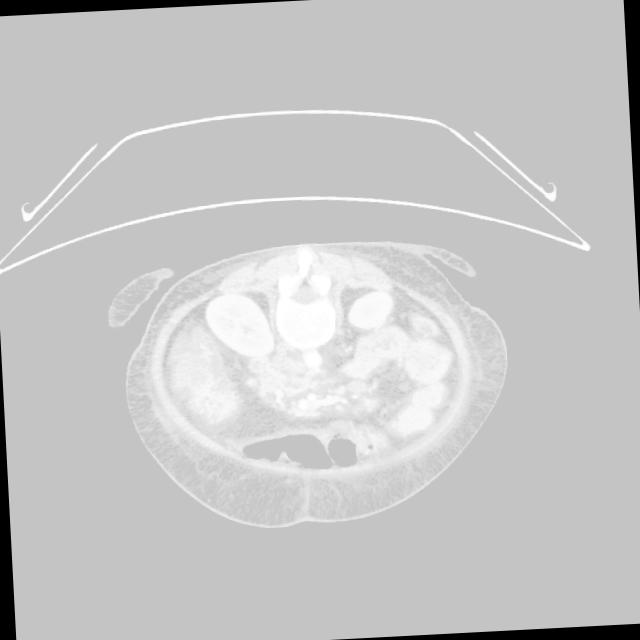NORMAL: (99, 216, 449, 565)
